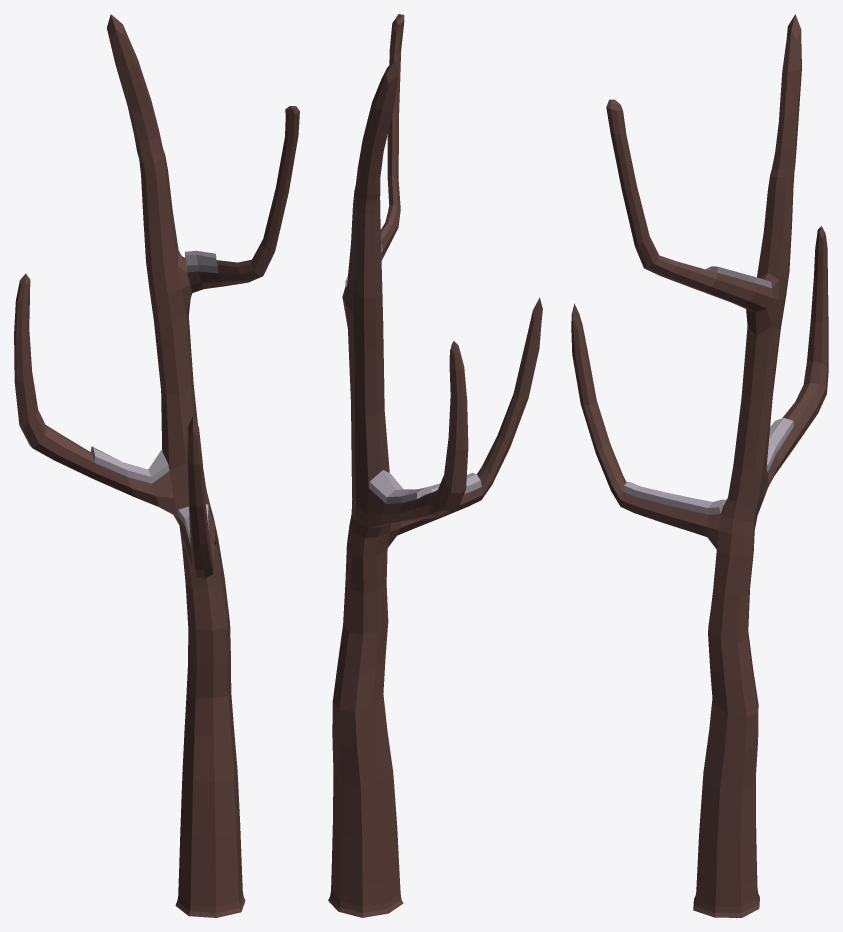
The model's file is CommonTree_Dead_Snow_3.gltf.
3 renders of one model, left to right at view 1: azimuth 30°, elevation 25°; view 2: azimuth 150°, elevation 25°; view 3: azimuth 270°, elevation 25°, orthographic. The views are drawn at different scales.
Visible parts, largest first — view 1: CommonTree_Dead_Snow_3; view 2: CommonTree_Dead_Snow_3; view 3: CommonTree_Dead_Snow_3.
Boxes of the visible parts, left/top/right/bottom form: CommonTree_Dead_Snow_3: left=14, top=14, right=299, bottom=917; CommonTree_Dead_Snow_3: left=328, top=14, right=542, bottom=917; CommonTree_Dead_Snow_3: left=571, top=14, right=828, bottom=917.
Size of the model in its own units: 0.6352 by 3 by 0.8125.
